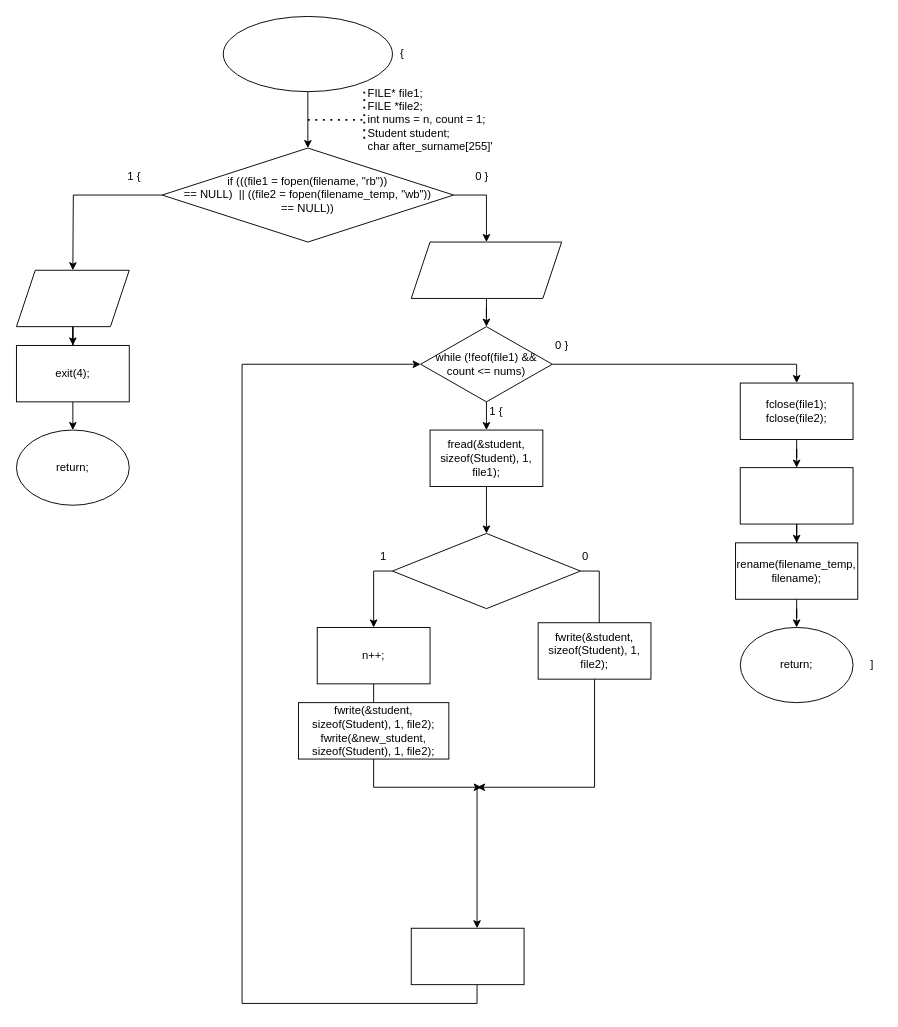
This 898x1027 diagram has some shape labels left out. The shapes that lost their labels are listed below. From the top down, each one's box as (x1, y1, x2, y2) in pixels, then its label:
(222, 16, 392, 92): void addElemFile(Student new_student)
(410, 241, 562, 298): cin.getline(after_surname, 255);
(16, 269, 129, 327): cout << "Ошибка";
(739, 467, 853, 524): remove(filename);
(392, 533, 580, 609): if (strcmp(after_surname, student.surname) == 0 && (n - num == 0))
(410, 927, 524, 985): ++count;
